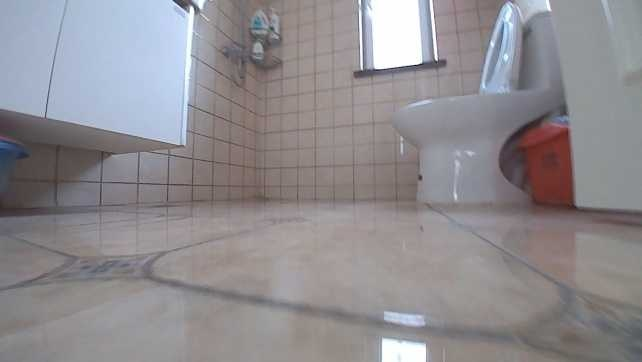toilet: (387, 1, 568, 210)
